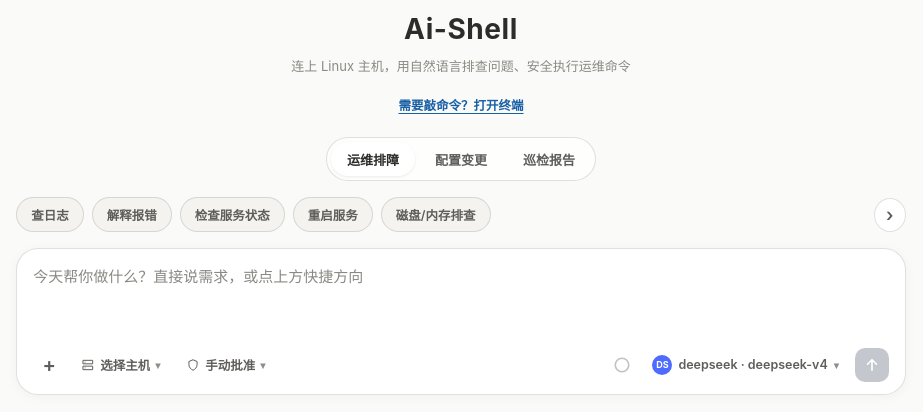
Test case: ChatPanel 发送前校验 › 无主机点发送 → 弹出主机选择，不打 Ask，草稿保留
Type "看看磁盘" into the text box with class "composer-input".
click(461, 300); type("看看磁盘")  # box [33, 265, 889, 335]
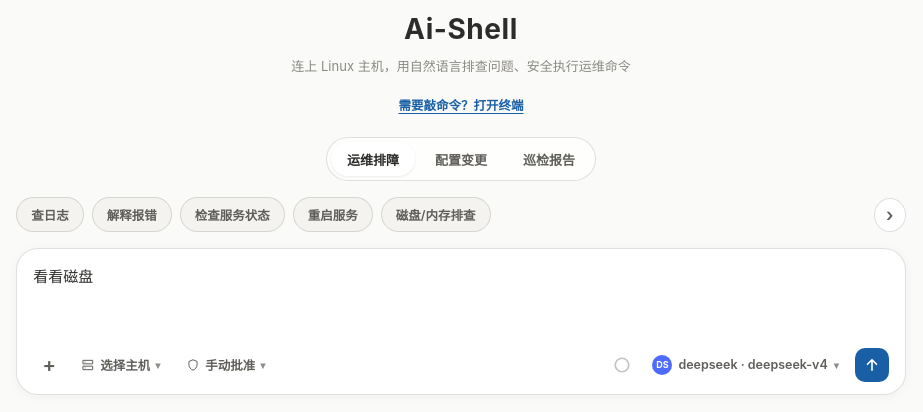
Click the button with class "send-btn".
click(872, 365)  # box [855, 348, 889, 382]
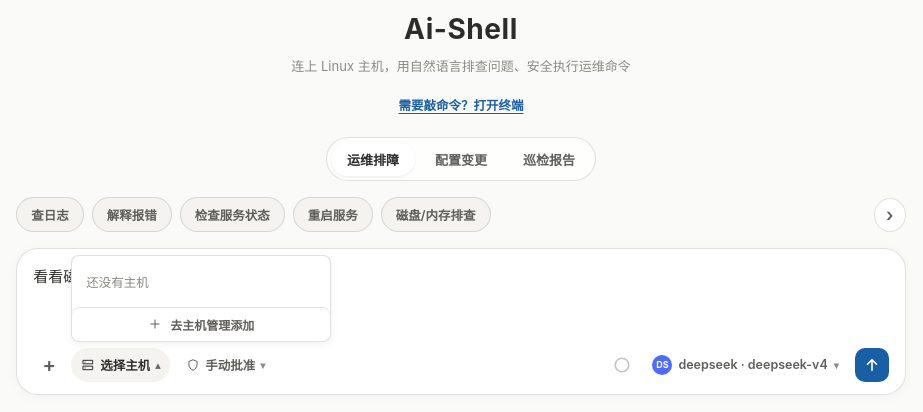
Check: the text "选择主机" is shown, box [100, 355, 150, 374]
Check: the list with class "host-menu" is shown, box [71, 255, 331, 342]
